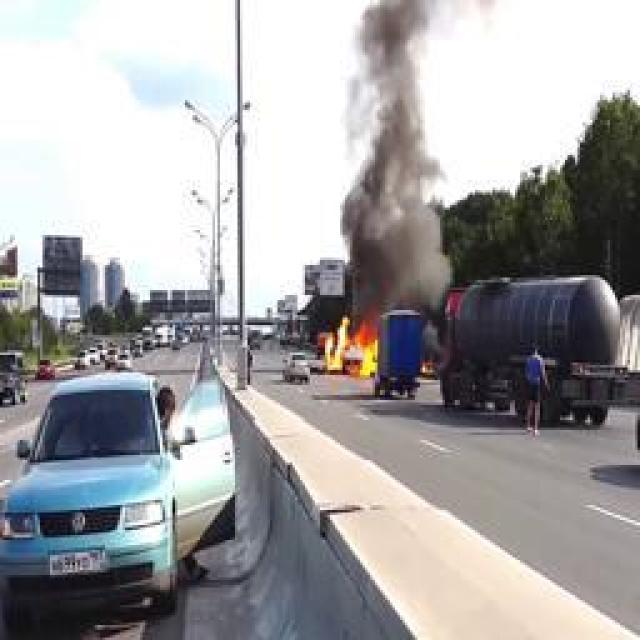Fire: (322, 316, 378, 376)
